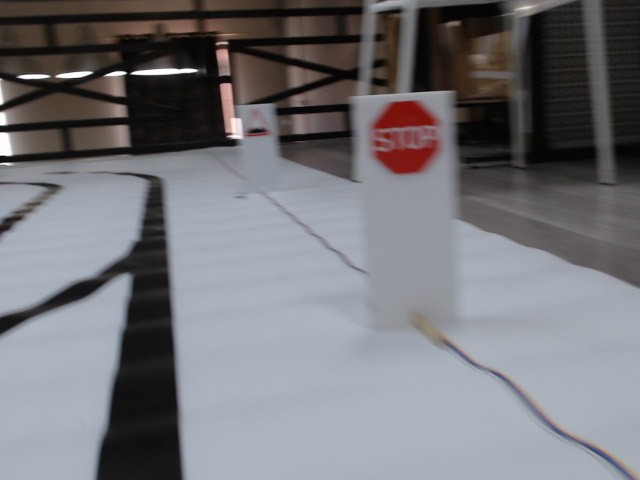Nerov: (244, 108, 272, 138)
Stop: (365, 100, 443, 175)
